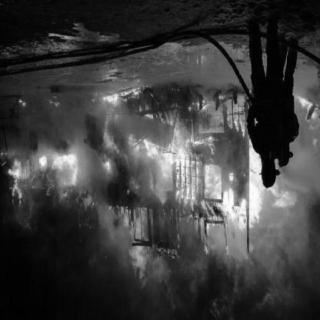Fire: (2, 99, 264, 235), (299, 96, 319, 142)
